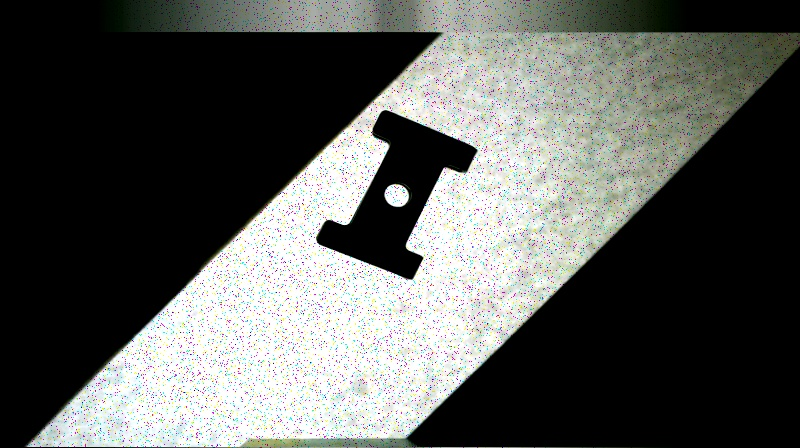O002: (312, 105, 480, 284)
